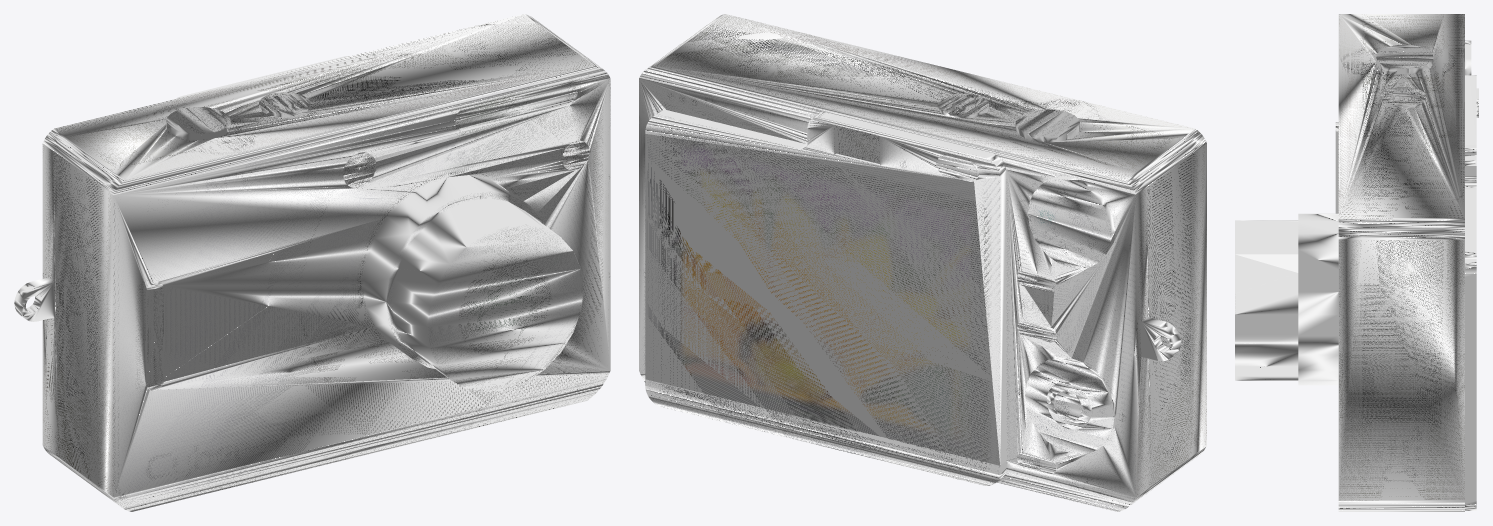
Rendered from model_align.obj.
3 views of the same model, side by side, from view 1: azimuth 30°, elevation 25°; view 2: azimuth 150°, elevation 25°; view 3: azimuth 270°, elevation 25° (orthographic). The views are drawn at different scales.
Size of the model in its own units: 0.1225 by 0.0748 by 0.0547.
Materials: 20 (20 with a texture image).
